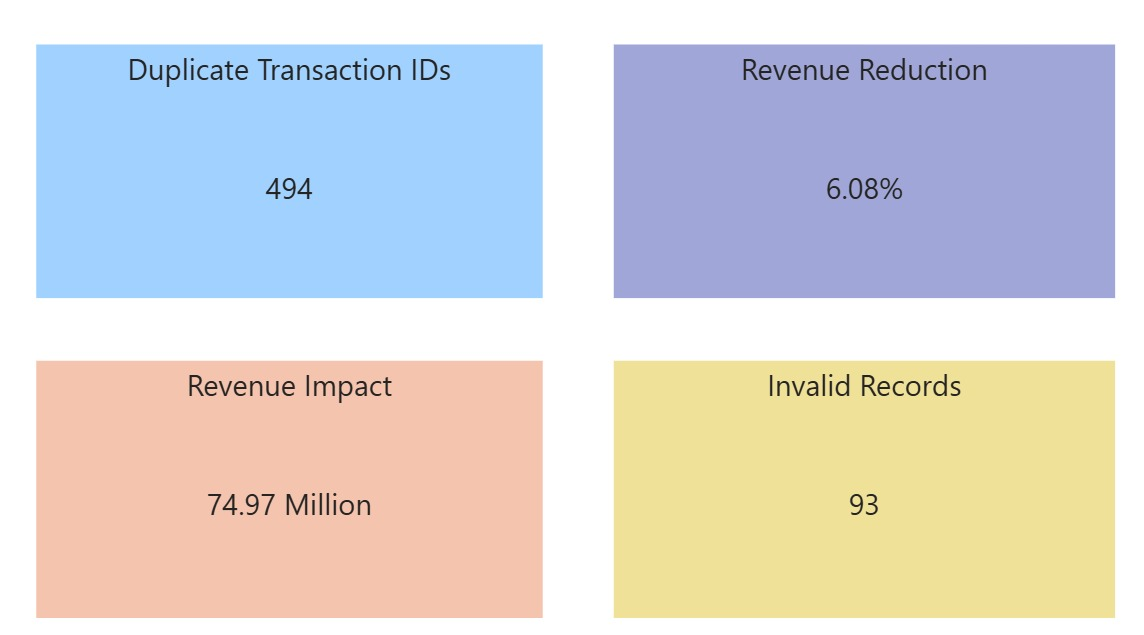

The dashboard page shown, as its layout file describes it:
{"tool":"powerbi","page":{"name":"Data Quality Analysis","canvas":[1280,720],"ordinal":3},"visuals":[{"type":"textbox","box":[50.8,63.1,555.7,278.6],"z":0},{"type":"textbox","box":[50.8,410.3,555.7,282.7],"z":1000},{"type":"textbox","box":[684.7,63.1,550.3,278.6],"z":2000},{"type":"textbox","box":[684.7,410.3,550.3,282.7],"z":3000}]}

Visuals, with their boxes in screenshot pixels (x1, y1, x2, y2), scaled from the page's 1280x720 canvas onto the 1144x635 screenshot:
textbox: x1=45, y1=56, x2=542, y2=301
textbox: x1=45, y1=362, x2=542, y2=611
textbox: x1=612, y1=56, x2=1104, y2=301
textbox: x1=612, y1=362, x2=1104, y2=611
